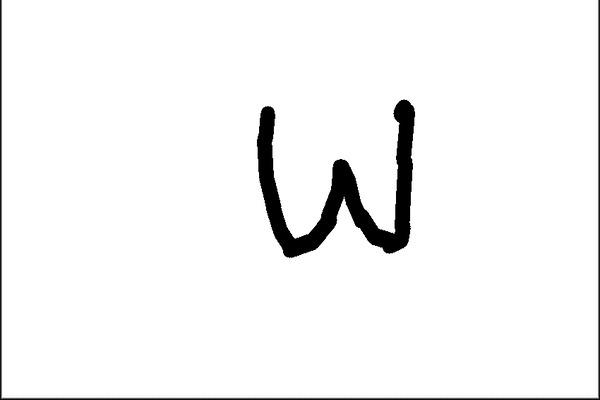w: (229, 87, 427, 265)
